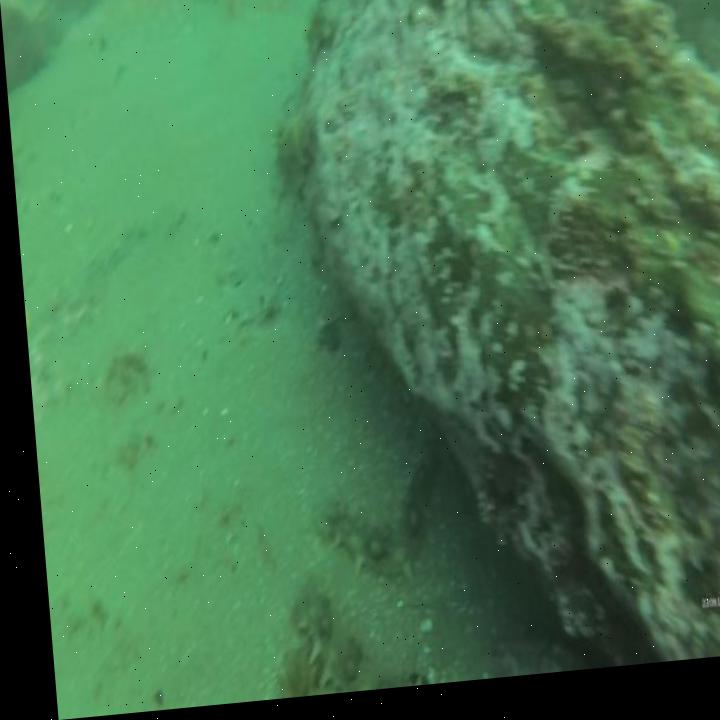holothurian: (279, 574, 373, 702), (310, 491, 414, 594), (391, 433, 442, 558), (267, 117, 316, 188), (300, 10, 344, 65)
